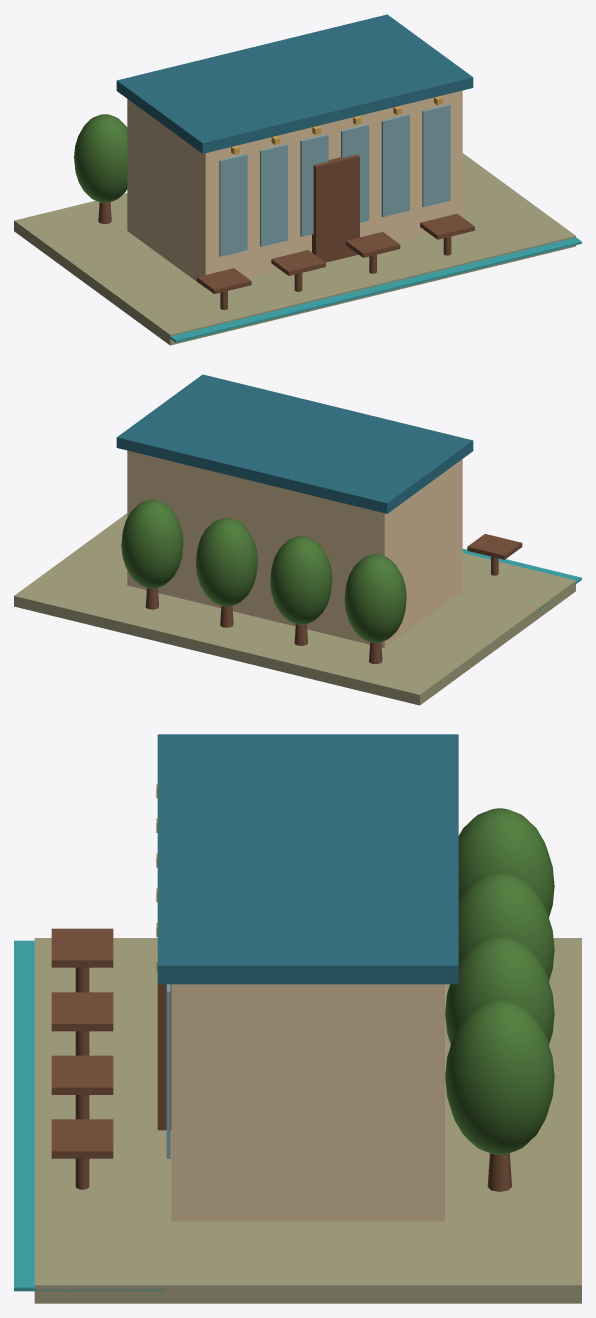
File: building.glb
The picture shows the model from 3 angles, top to bottom: view 1: azimuth 30°, elevation 25°; view 2: azimuth 150°, elevation 25°; view 3: azimuth 270°, elevation 25°; orthographic projection. The views are drawn at different scales.
Bounding box in the file's own units: 6 × 2.26 × 4.15.
